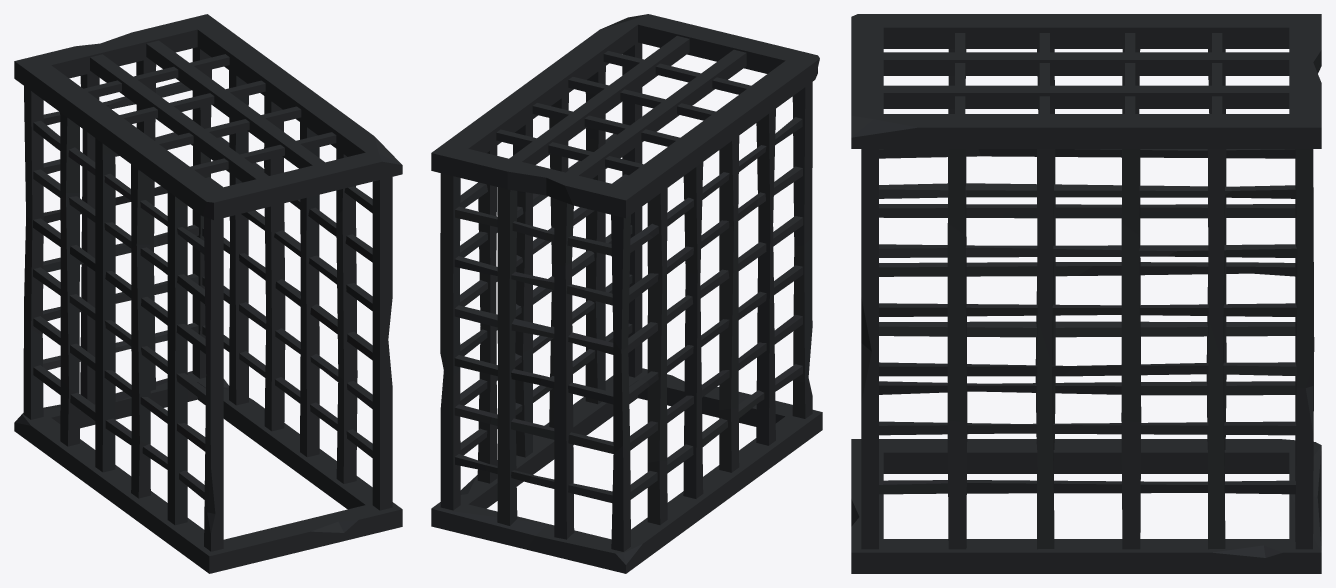
Rendered from prop_cage_cart.gltf.
3 renders of one model, left to right at view 1: azimuth 30°, elevation 25°; view 2: azimuth 150°, elevation 25°; view 3: azimuth 270°, elevation 25°, orthographic. The views are drawn at different scales.
Visible parts, largest first — view 1: prop_cage_cart; view 2: prop_cage_cart; view 3: prop_cage_cart.
Boxes of the visible parts, bbox=[...] form: prop_cage_cart: bbox=[14, 14, 402, 573]; prop_cage_cart: bbox=[431, 14, 822, 573]; prop_cage_cart: bbox=[851, 14, 1321, 573].
Size of the model in its own units: 1.14 by 2.09 by 2.
1 material, 1 textured.
